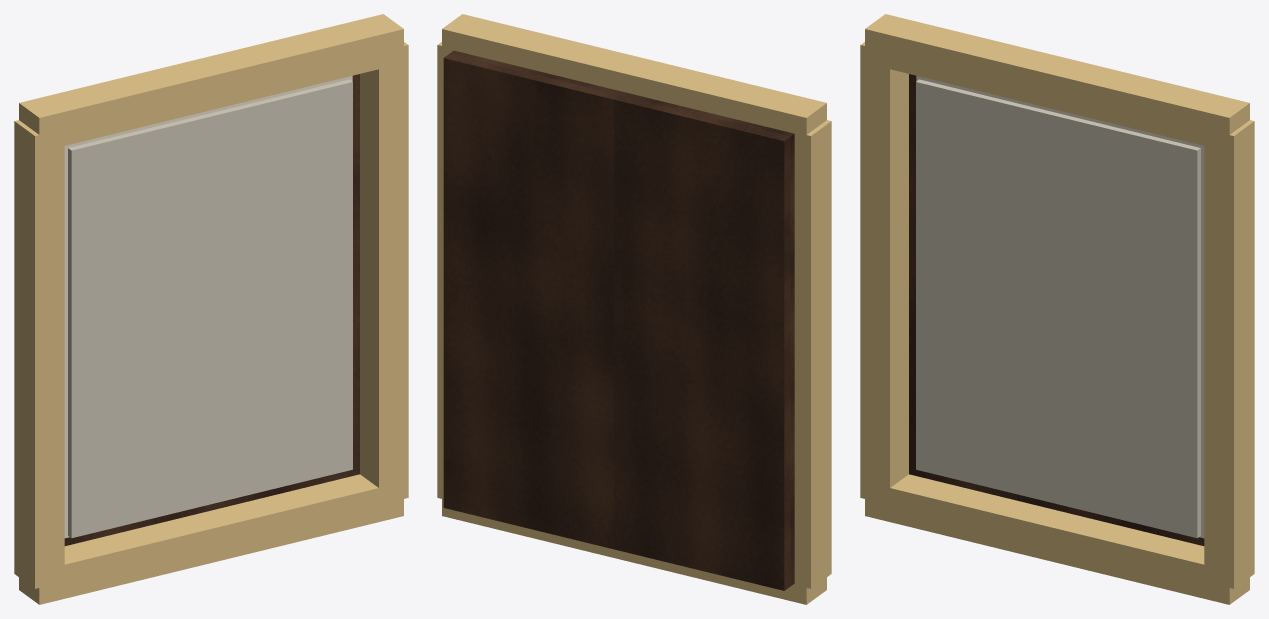
File: pigura_foto_jawa.glb
The picture shows the model from 3 angles, left to right: view 1: azimuth 30°, elevation 25°; view 2: azimuth 150°, elevation 25°; view 3: azimuth 330°, elevation 25°; orthographic projection.
Parts seen in each view (by area): view 1: HS_GALLERY_01, PHOTO_FRAME_SIDE_-1, PHOTO_FRAME_SIDE_1, PHOTO_FRAME_TOP, PHOTO_FRAME_BOTTOM, FRAME_BACK, PHOTO_MATTE; view 2: FRAME_BACK, PHOTO_FRAME_SIDE_-1, PHOTO_FRAME_TOP, PHOTO_FRAME_BOTTOM, PHOTO_FRAME_SIDE_1; view 3: HS_GALLERY_01, PHOTO_FRAME_SIDE_1, PHOTO_FRAME_SIDE_-1, PHOTO_FRAME_TOP, PHOTO_FRAME_BOTTOM, FRAME_BACK, PHOTO_MATTE.
Boxes of the visible parts, bbox=[...] form: HS_GALLERY_01: bbox=[68, 79, 352, 538]; PHOTO_FRAME_SIDE_-1: bbox=[14, 120, 64, 588]; PHOTO_FRAME_SIDE_1: bbox=[360, 42, 408, 501]; PHOTO_FRAME_TOP: bbox=[19, 14, 403, 151]; PHOTO_FRAME_BOTTOM: bbox=[19, 474, 403, 604]; FRAME_BACK: bbox=[64, 74, 359, 545]; PHOTO_MATTE: bbox=[64, 75, 352, 538]; FRAME_BACK: bbox=[443, 50, 794, 590]; PHOTO_FRAME_SIDE_-1: bbox=[781, 120, 831, 588]; PHOTO_FRAME_TOP: bbox=[442, 14, 826, 150]; PHOTO_FRAME_BOTTOM: bbox=[442, 482, 826, 604]; PHOTO_FRAME_SIDE_1: bbox=[437, 42, 466, 498]; HS_GALLERY_01: bbox=[916, 79, 1200, 538]; PHOTO_FRAME_SIDE_1: bbox=[1204, 120, 1254, 588]; PHOTO_FRAME_SIDE_-1: bbox=[860, 42, 908, 504]; PHOTO_FRAME_TOP: bbox=[865, 14, 1249, 151]; PHOTO_FRAME_BOTTOM: bbox=[865, 474, 1249, 604]; FRAME_BACK: bbox=[909, 74, 1204, 545]; PHOTO_MATTE: bbox=[916, 75, 1204, 538].
Size of the model in its own units: 1.26 by 1.57 by 0.18.
4 materials, 1 textured.
